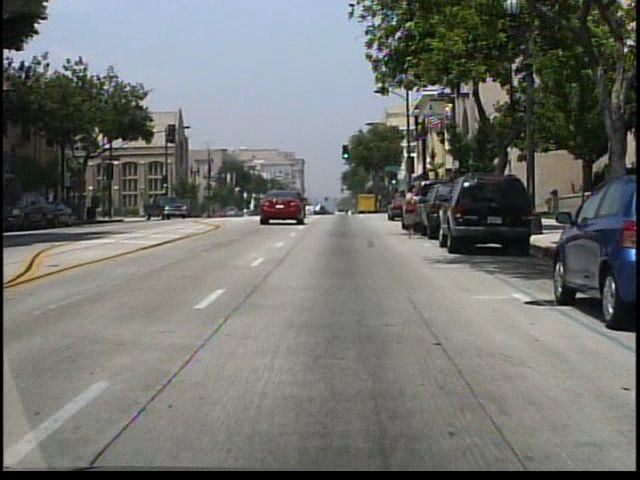person: (402, 182, 430, 240)
